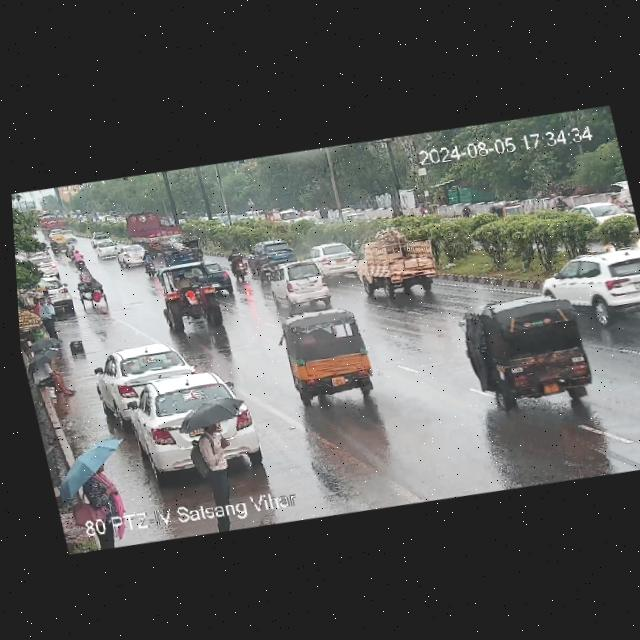bus: (36, 345, 60, 361)
car: (451, 283, 604, 418), (269, 296, 384, 410), (119, 365, 250, 456), (532, 240, 640, 327), (91, 337, 197, 415), (264, 254, 336, 310), (19, 271, 76, 317), (310, 239, 362, 282), (243, 235, 299, 274), (570, 197, 632, 229), (205, 257, 238, 294), (115, 241, 149, 267), (491, 195, 523, 219), (93, 239, 122, 260), (90, 231, 119, 250)
motorcycle: (73, 261, 111, 311), (226, 245, 250, 282), (252, 245, 273, 283), (139, 247, 162, 275), (73, 249, 86, 268), (64, 242, 76, 259), (49, 237, 58, 254)
person: (189, 421, 240, 506), (82, 466, 126, 521), (29, 356, 79, 402), (37, 294, 61, 341), (45, 289, 56, 316), (32, 295, 41, 314)
truck: (351, 227, 446, 302), (155, 260, 224, 333), (119, 204, 185, 249), (157, 233, 205, 266)
